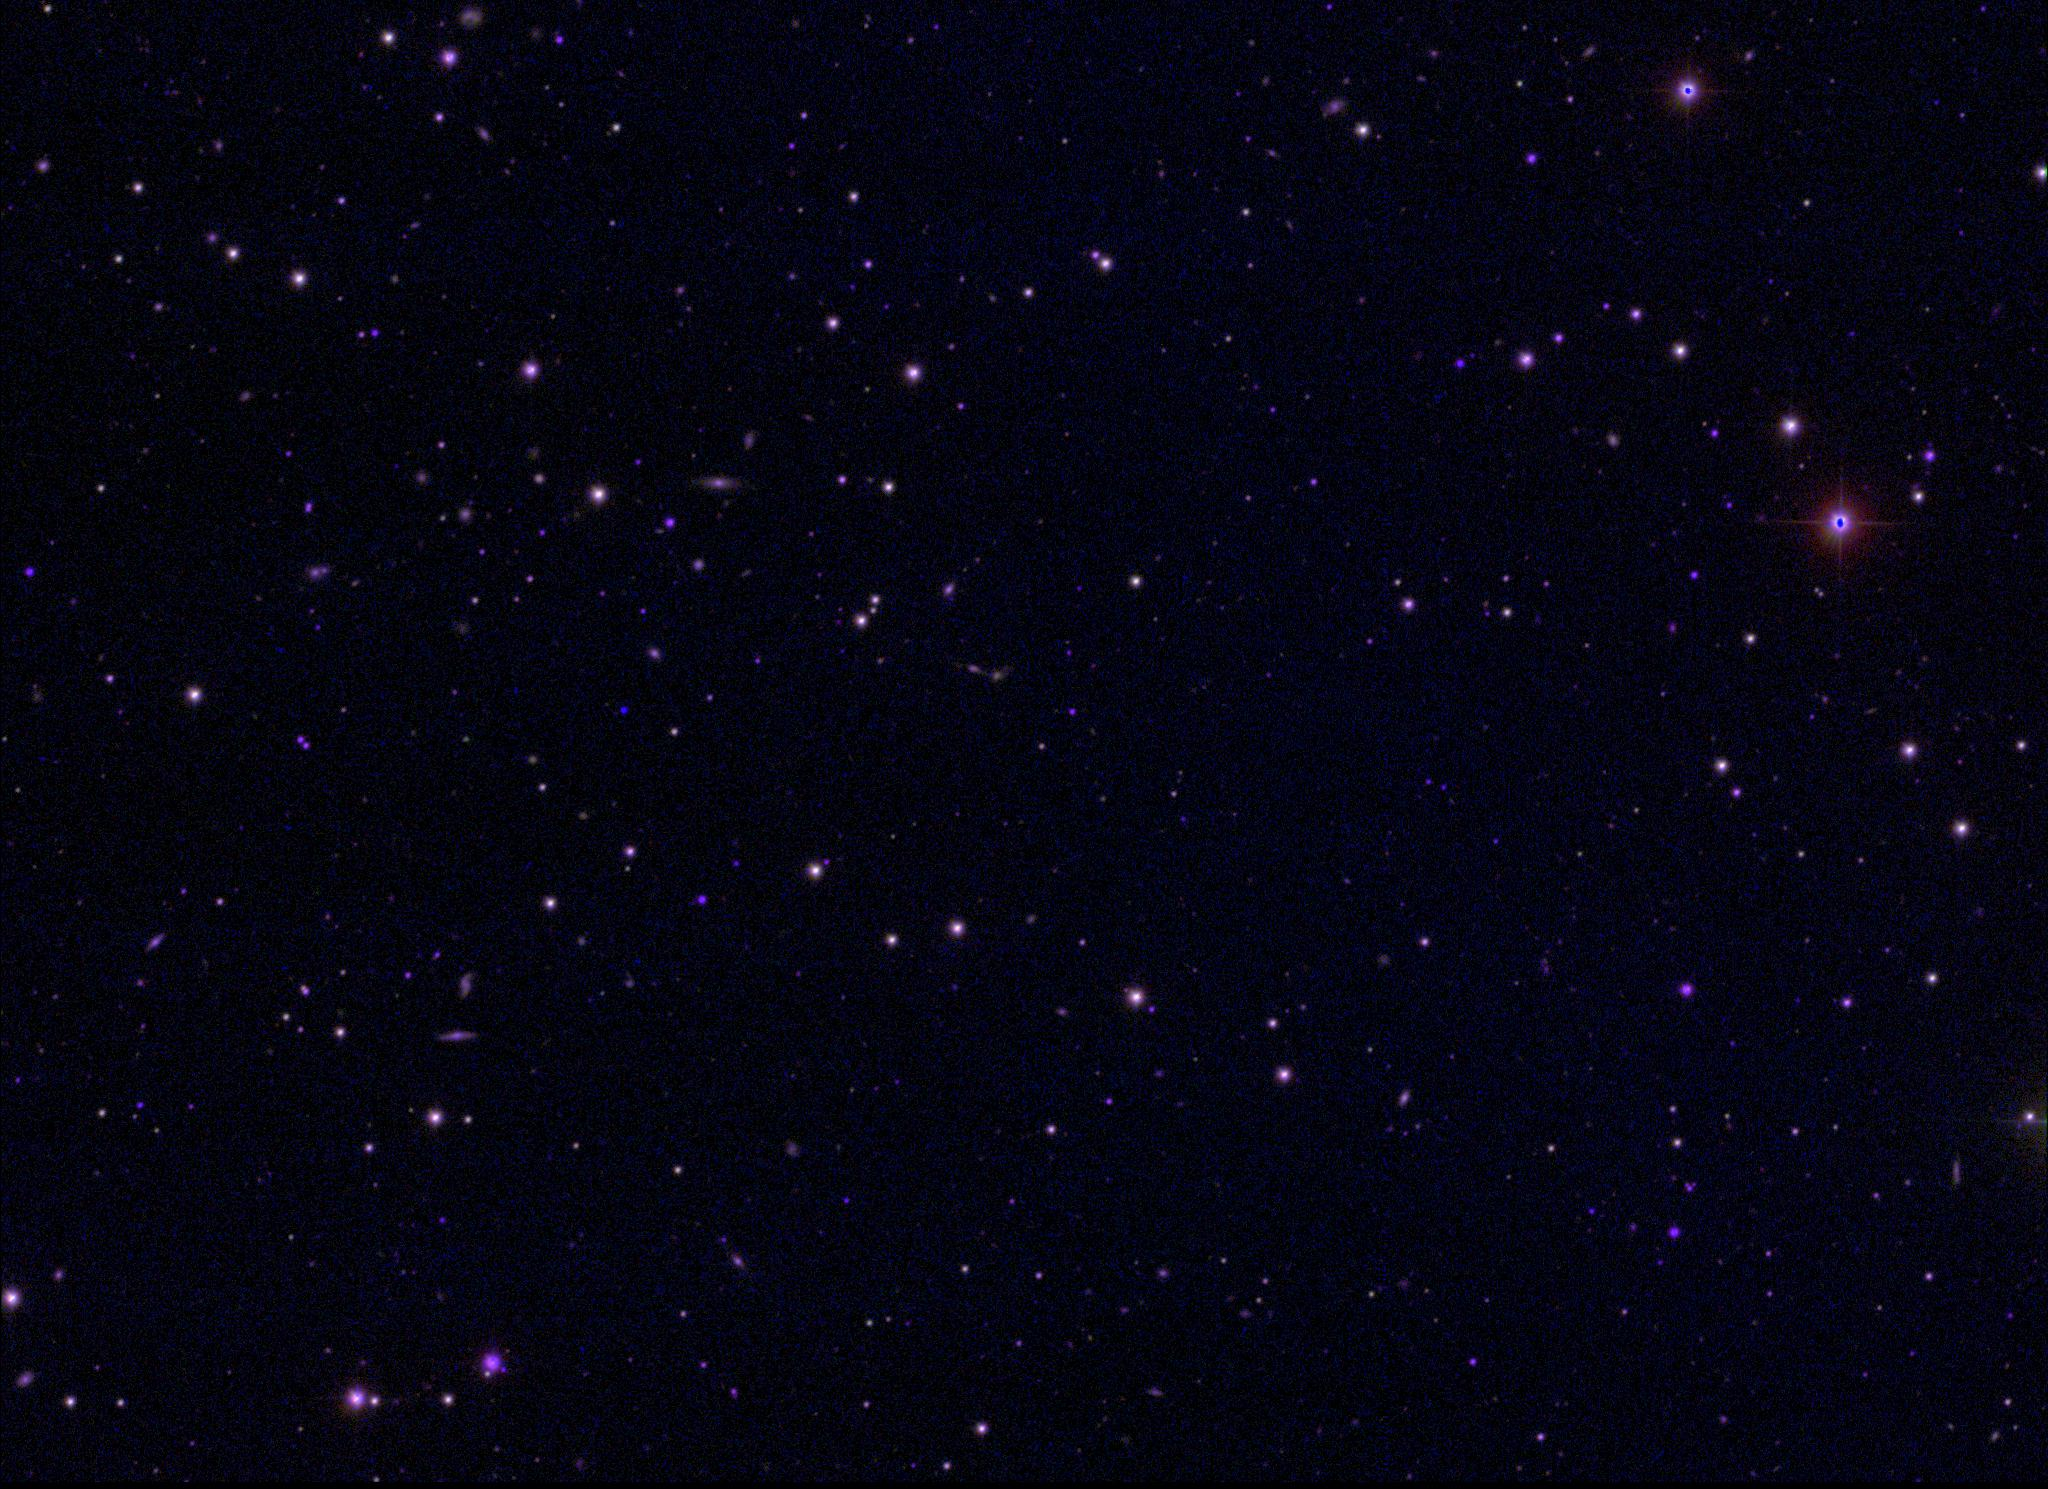L: (614, 703, 628, 717)
